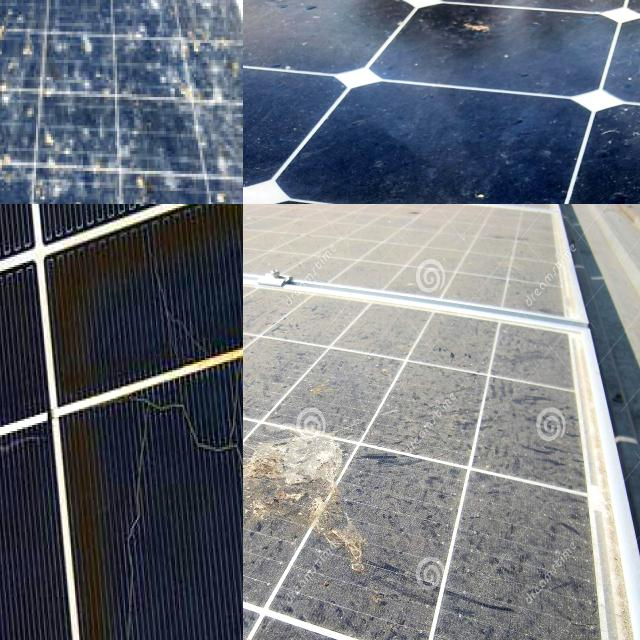bird: (243, 419, 381, 572), (172, 32, 242, 125), (0, 123, 42, 204), (0, 114, 32, 196), (115, 156, 166, 202), (0, 0, 58, 33), (0, 71, 21, 133)
shadow: (9, 232, 125, 640), (142, 204, 243, 232)
